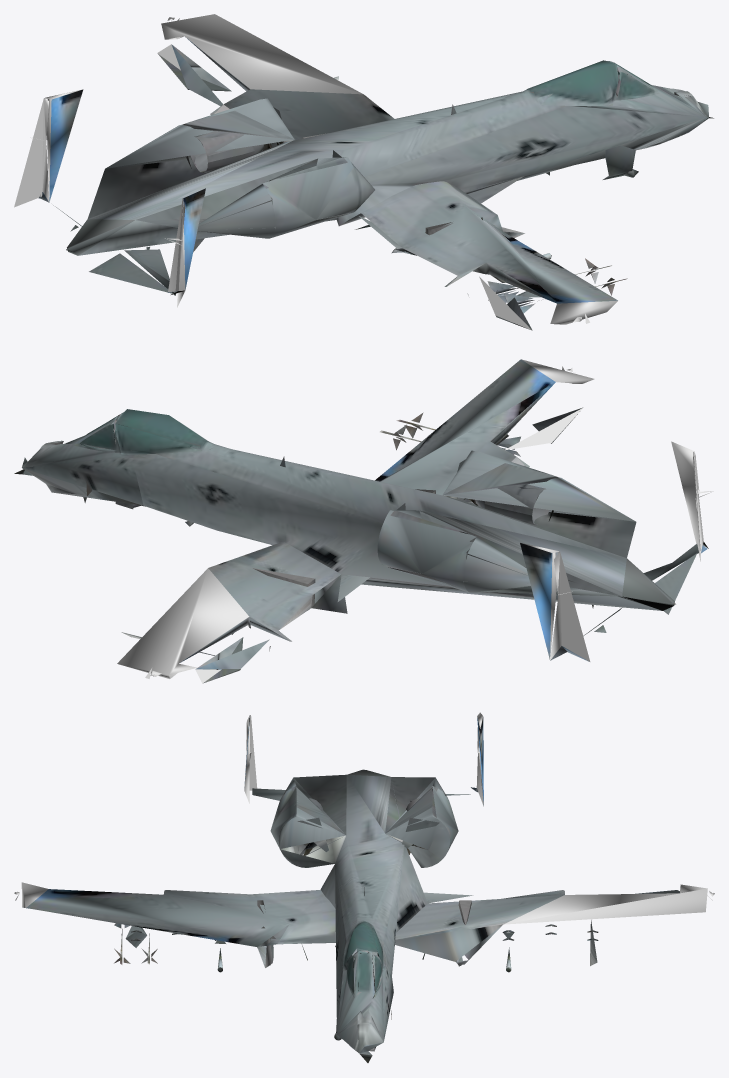
3 views of the same model, one above another, from view 1: azimuth 30°, elevation 25°; view 2: azimuth 150°, elevation 25°; view 3: azimuth 270°, elevation 25° (orthographic). The views are drawn at different scales.
Parts seen in each view (by area): view 1: g_a10_hull; view 2: g_a10_hull; view 3: g_a10_hull.
Boxes of the visible parts, bbox=[...] form: g_a10_hull: bbox=[14, 14, 713, 330]; g_a10_hull: bbox=[14, 359, 713, 683]; g_a10_hull: bbox=[14, 712, 714, 1062].
Bounding box in the file's own units: 15.81 × 3.35 × 17.38.
Materials: 2 (1 with a texture image).
